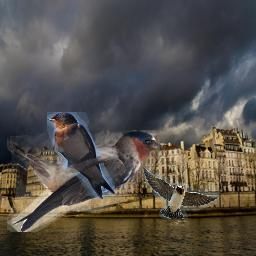Swallow: (7, 130, 165, 232), (47, 112, 115, 199), (142, 166, 220, 219)
